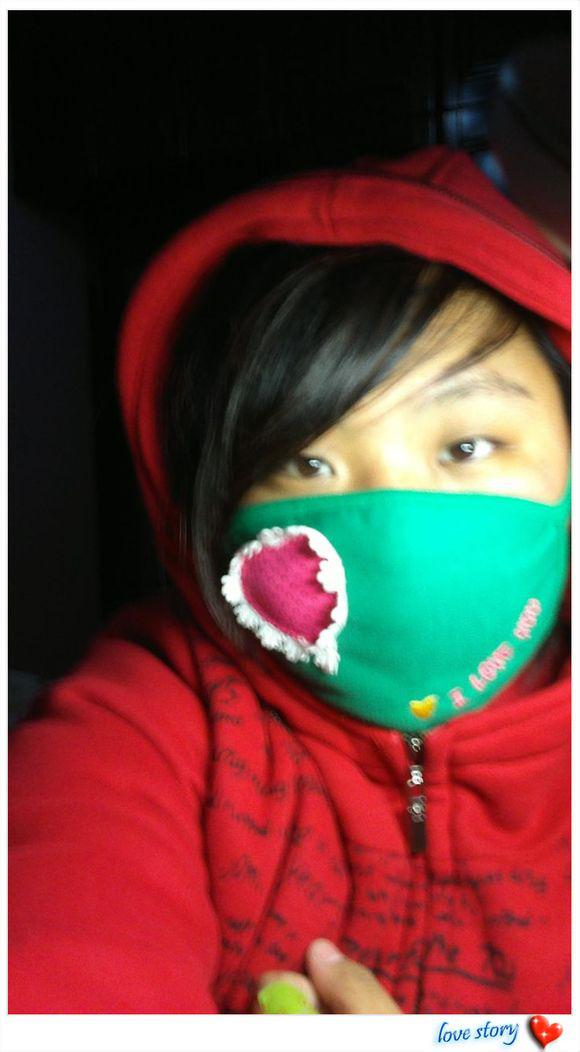OK: (211, 368, 569, 738)
